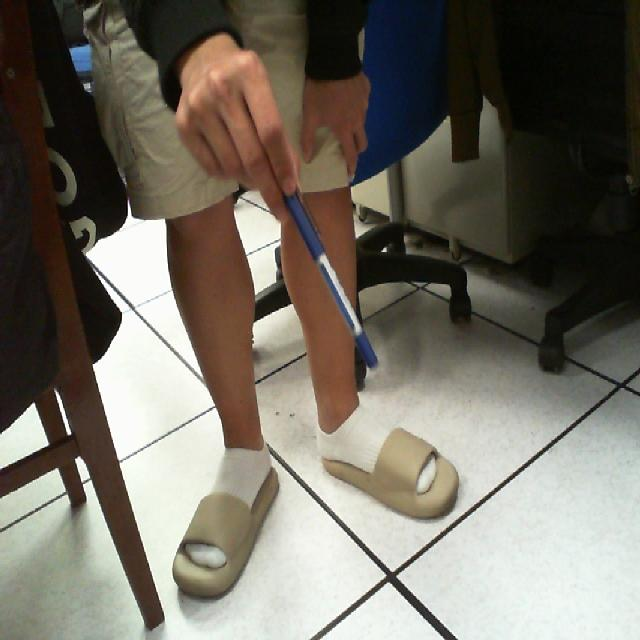Pen: (278, 157, 400, 396)
